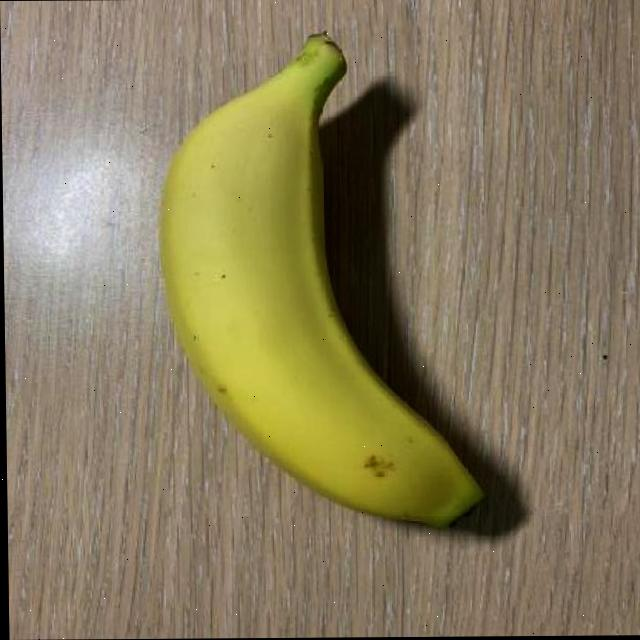banana: (150, 26, 496, 531)
